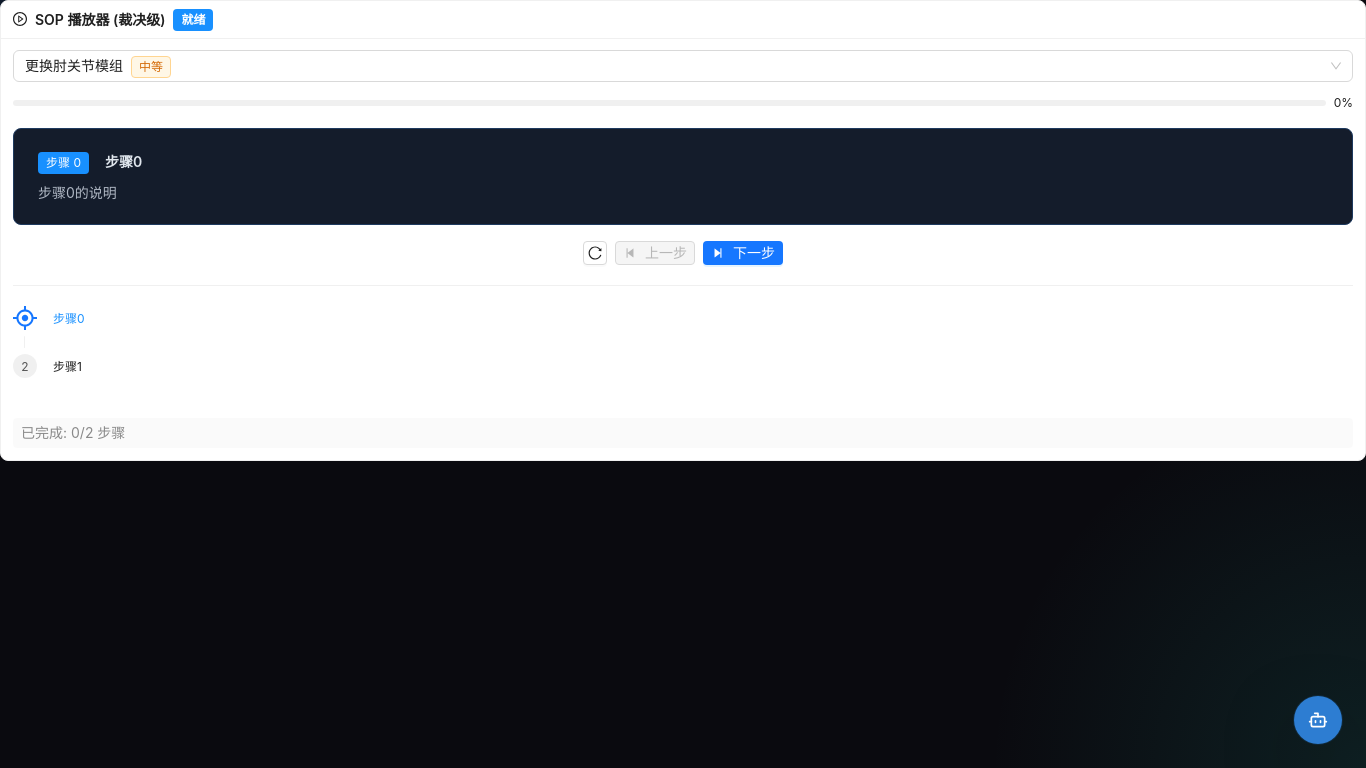
Test case: SOPPlayerAdjudicated characterization › advances through a document-bridge step when 下一步 is clicked
Expected: the text "已完成: 0/2 步骤" is shown, [21,424,125,441]
Step 1. Click the button "下一步" → (743, 253), box [703,241,783,265]
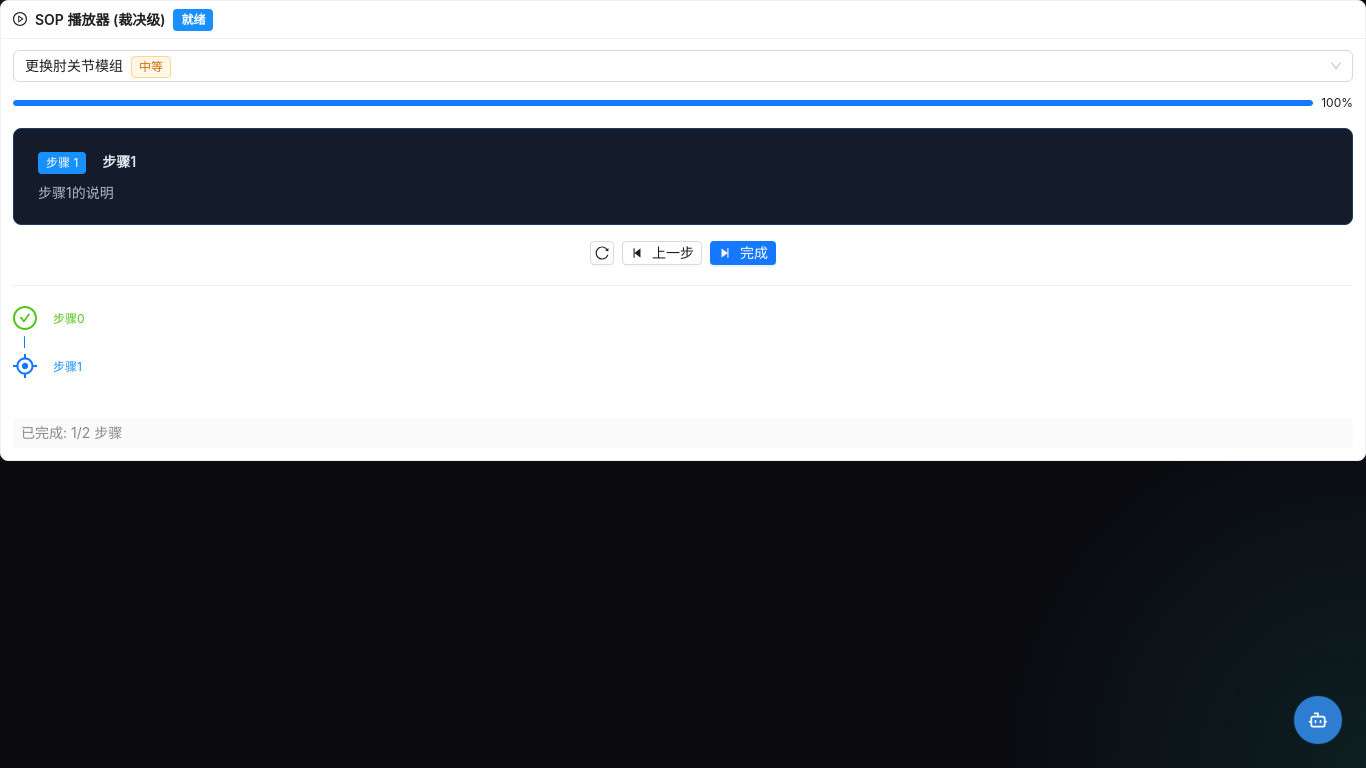
Result: the text "已完成: 1/2 步骤" is shown at [21,424,122,441]
